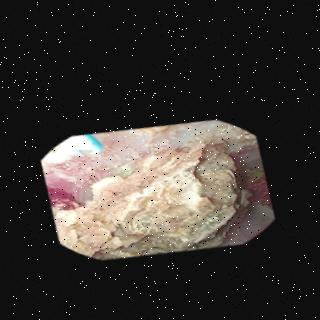fiber: (67, 134, 99, 154)
stone: (51, 134, 248, 256), (138, 124, 168, 131)
